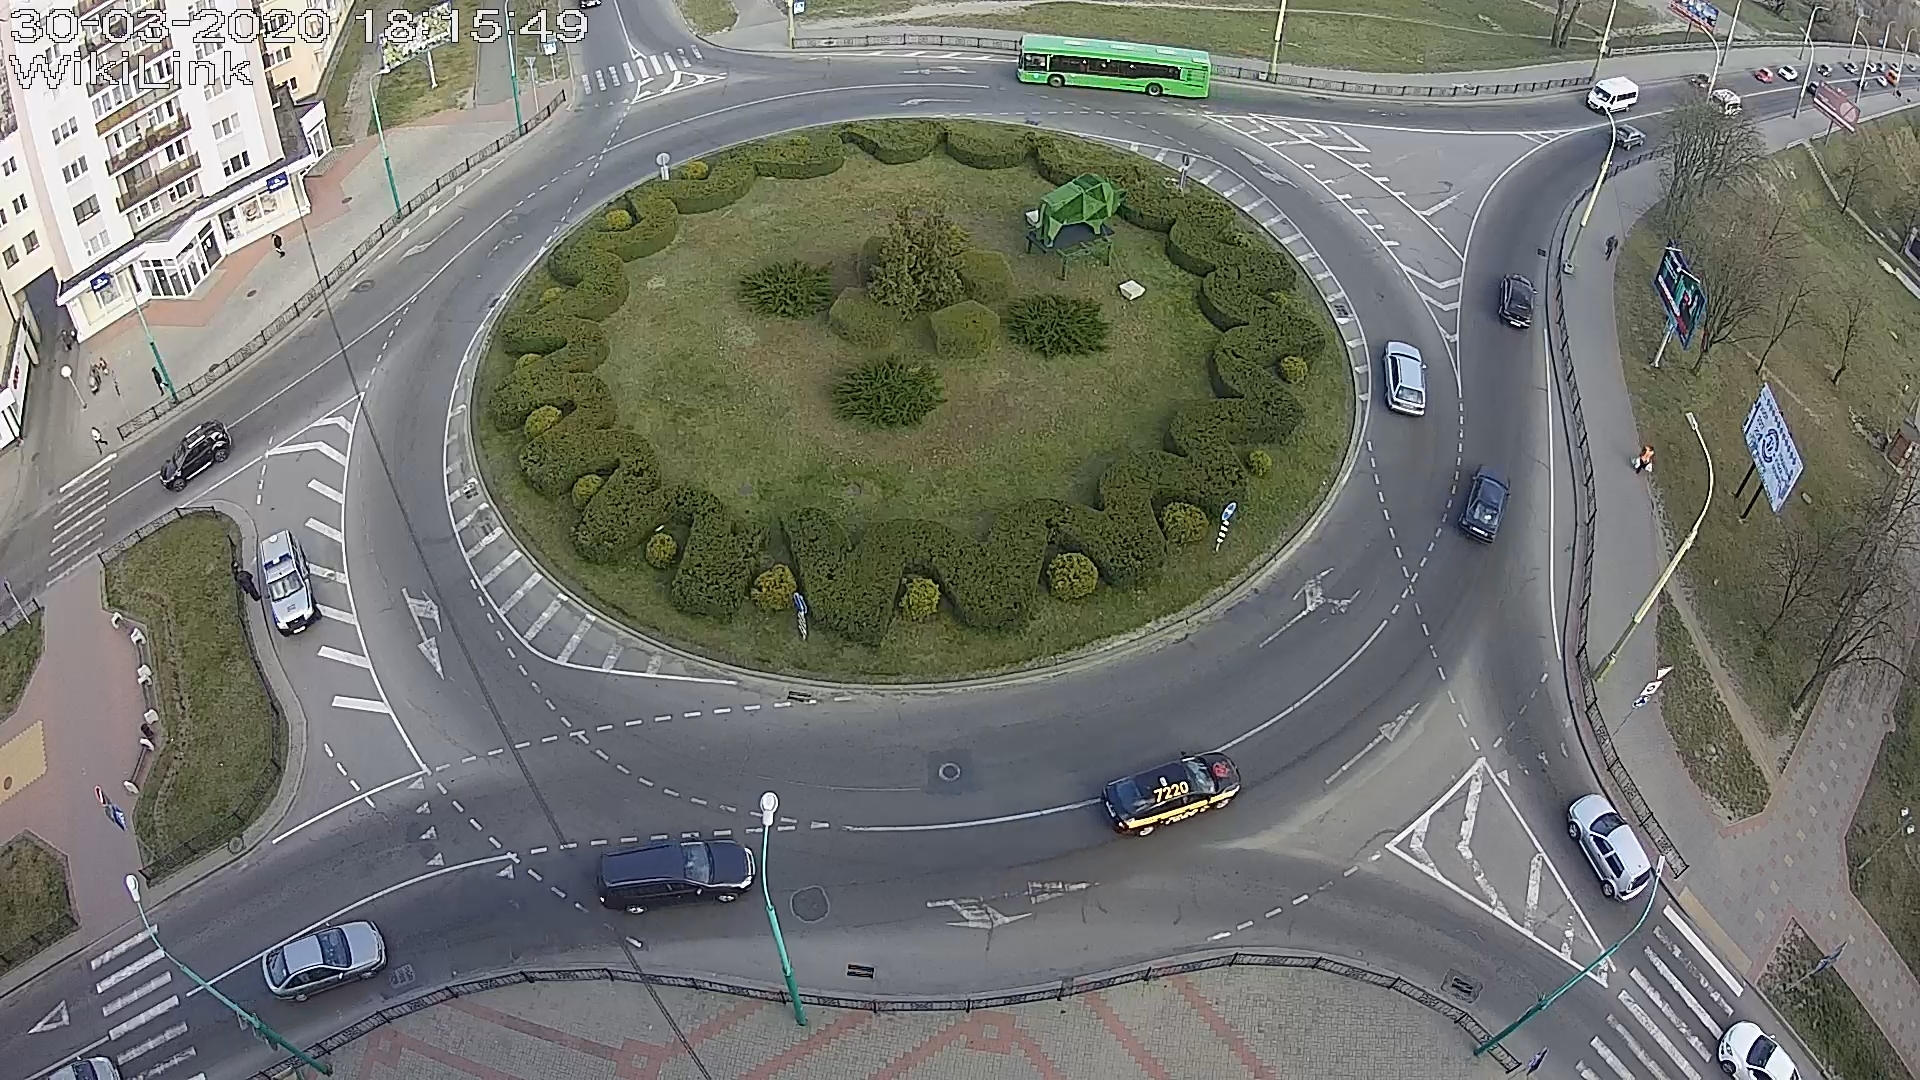bus: (1017, 34, 1212, 99)
car: (593, 840, 757, 915), (1100, 752, 1242, 837), (261, 919, 386, 1002), (1565, 793, 1654, 905), (260, 529, 322, 638), (160, 418, 233, 493), (1457, 463, 1511, 546), (1382, 340, 1429, 417), (1497, 272, 1538, 330), (1586, 75, 1639, 116), (1611, 123, 1647, 152)
